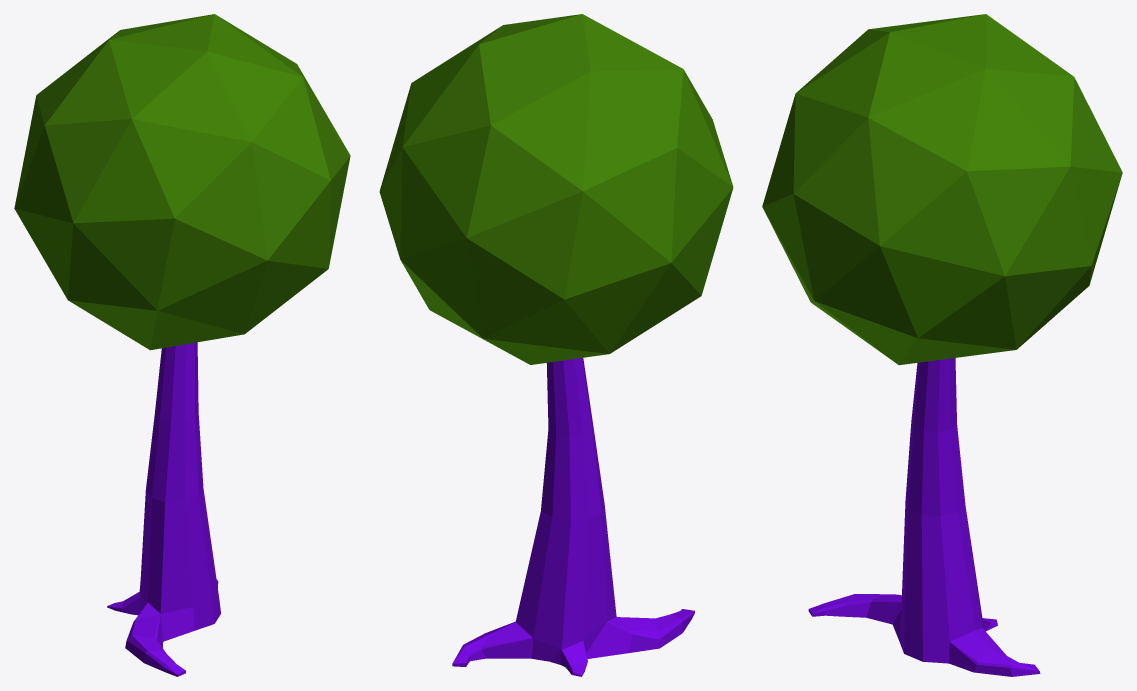
Rendered from TREE_LITTLE.fbx.
The picture shows the model from 3 angles, left to right: view 1: azimuth 30°, elevation 25°; view 2: azimuth 150°, elevation 25°; view 3: azimuth 270°, elevation 25°; orthographic projection. The views are drawn at different scales.
Parts seen in each view (by area): view 1: TREE_LITTLE; view 2: TREE_LITTLE; view 3: TREE_LITTLE.
Part boxes in pixels (<box>): TREE_LITTLE: <box>14,14,350,676</box>; TREE_LITTLE: <box>379,14,733,676</box>; TREE_LITTLE: <box>762,14,1122,676</box>.
Bounding box in the file's own units: 152 × 305 × 162.
